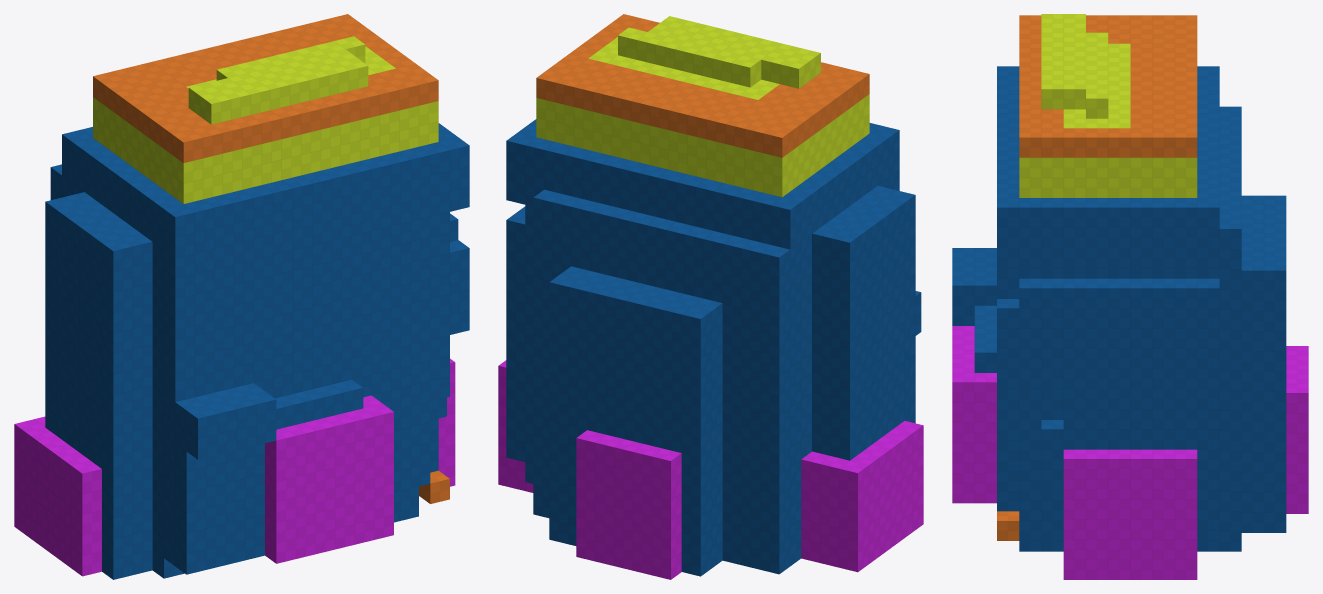
The picture shows the model from 3 angles, left to right: view 1: azimuth 30°, elevation 25°; view 2: azimuth 150°, elevation 25°; view 3: azimuth 270°, elevation 25°; orthographic projection. The views are drawn at different scales.
Visible parts, largest first — view 1: _bake (×4); view 2: _bake (×4); view 3: _bake (×4).
Part boxes in pixels (x1,y1,x2,y2): _bake (×4): (14,14,469,579); _bake (×4): (498,14,923,579); _bake (×4): (952,14,1308,579).
Bounding box in the file's own units: 19 × 22 × 16.
5 materials, 5 textured.
